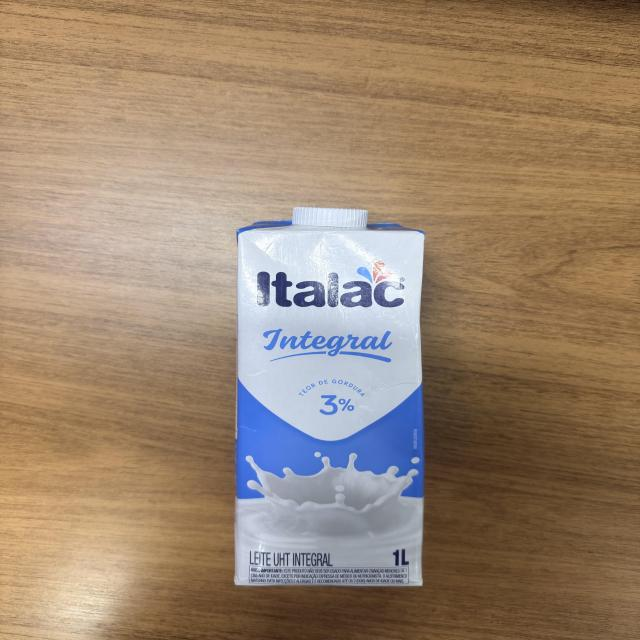Caixa de Leite: (240, 216, 435, 581)
